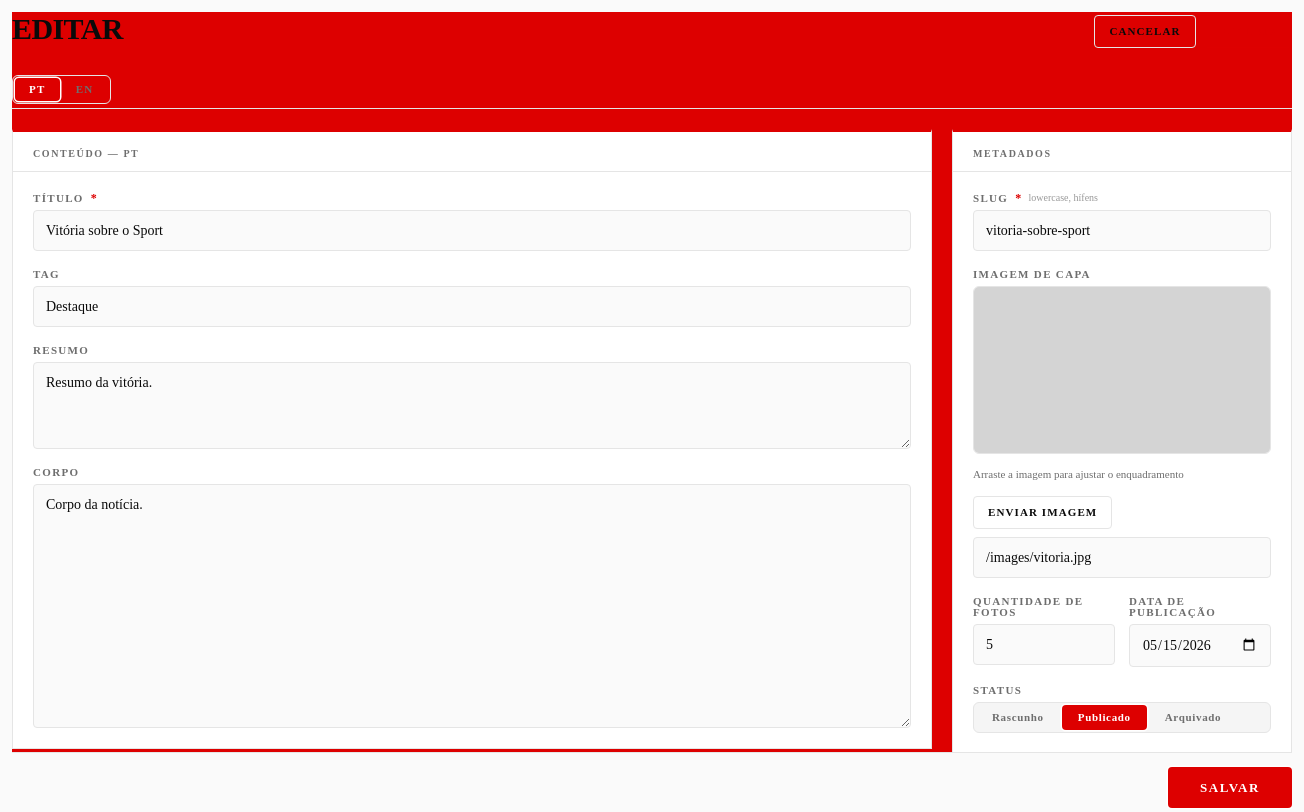
Test: NewsForm › switches to EN title field when EN is clicked
This screenshot has width=1304, height=812.
Check: the field showing "Vitória sobre o Sport" is shown, box x1=33 y1=210 x2=911 y2=251
Step 1. Click the button "EN" → (85, 90), box x1=62 y1=78 x2=108 y2=101
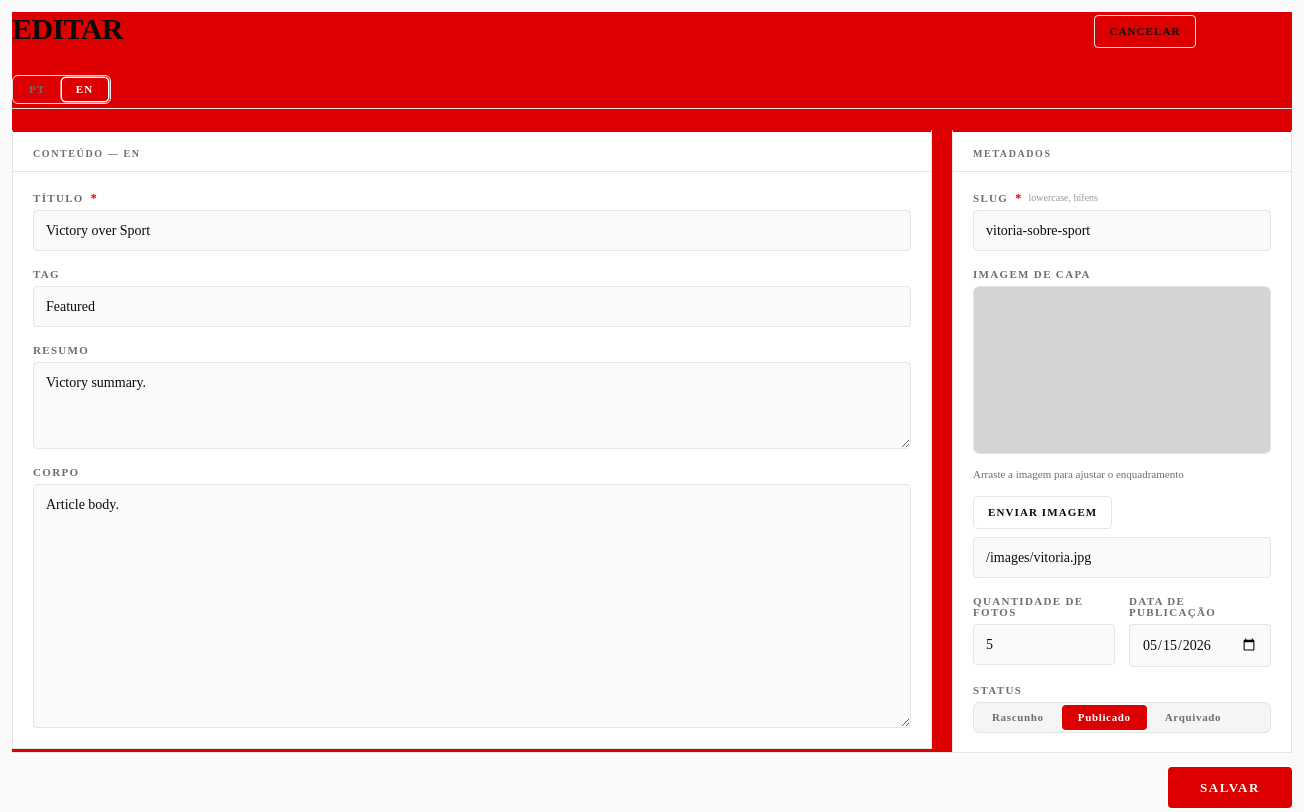
Check: the field showing "Vitória sobre o Sport" is not shown
Check: the field showing "Victory over Sport" is shown, box x1=33 y1=210 x2=911 y2=251
